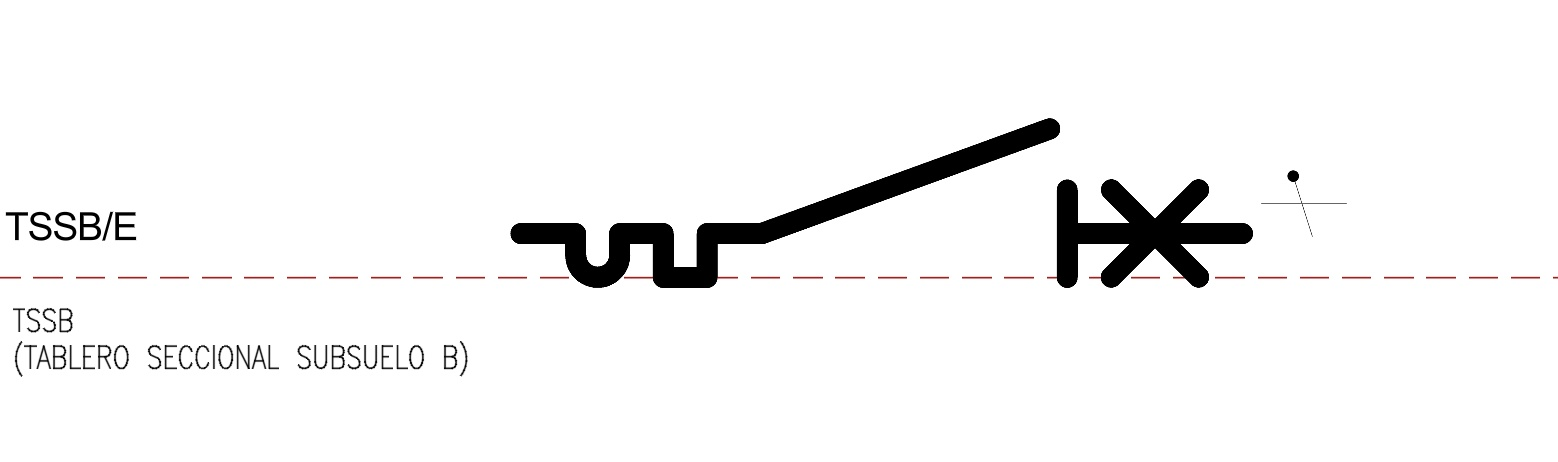interruptor_termomagnetico: (502, 110, 1261, 296)
